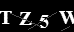5: (38, 14, 50, 29)
T: (1, 10, 12, 25)
W: (58, 10, 74, 25)
Z: (18, 11, 33, 26)
